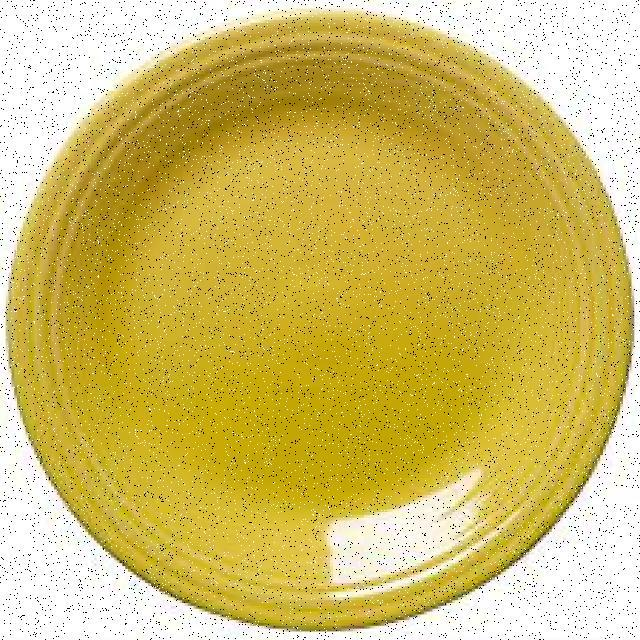plate: (4, 2, 638, 636)
